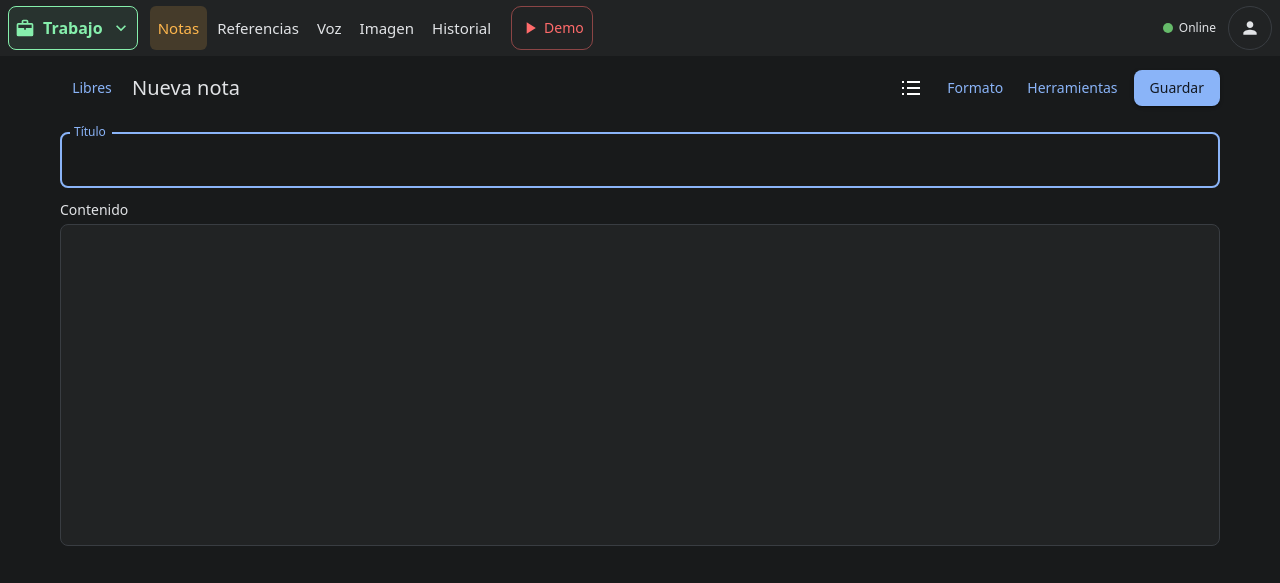
Test: Libres › abre la nota recién creada al guardar desde el editor y conserva la fecha de retorno
Type "Original" into the field labelled "Título" at x=640, y=160, box [60, 132, 1220, 188]
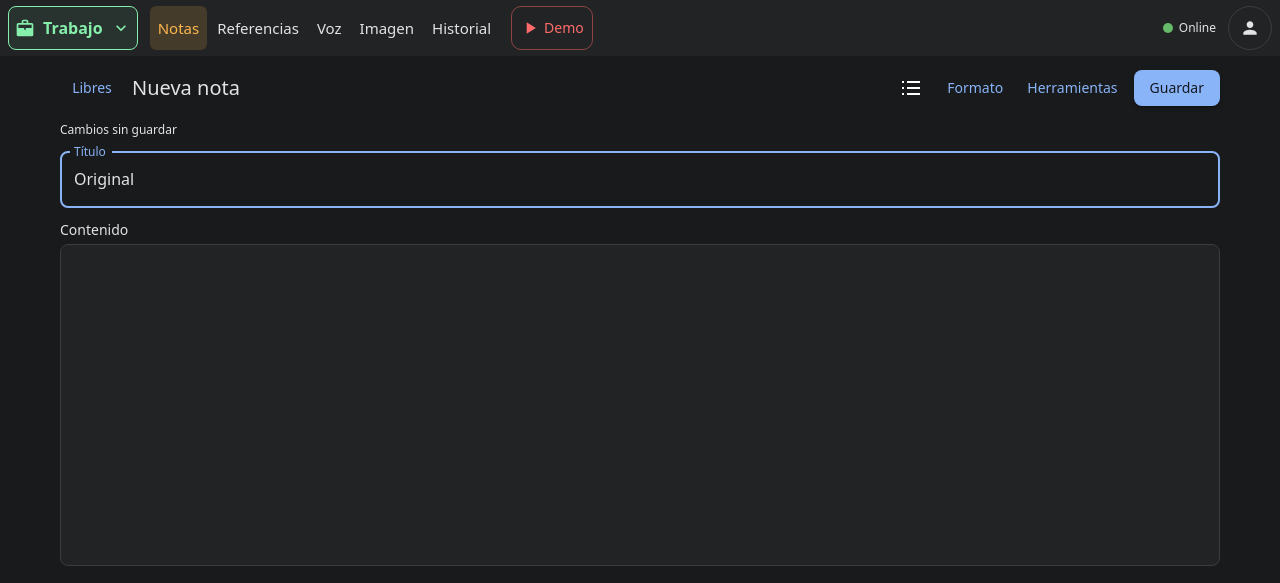
Click the button "Guardar" at x=1177, y=88, box [1134, 70, 1220, 106]
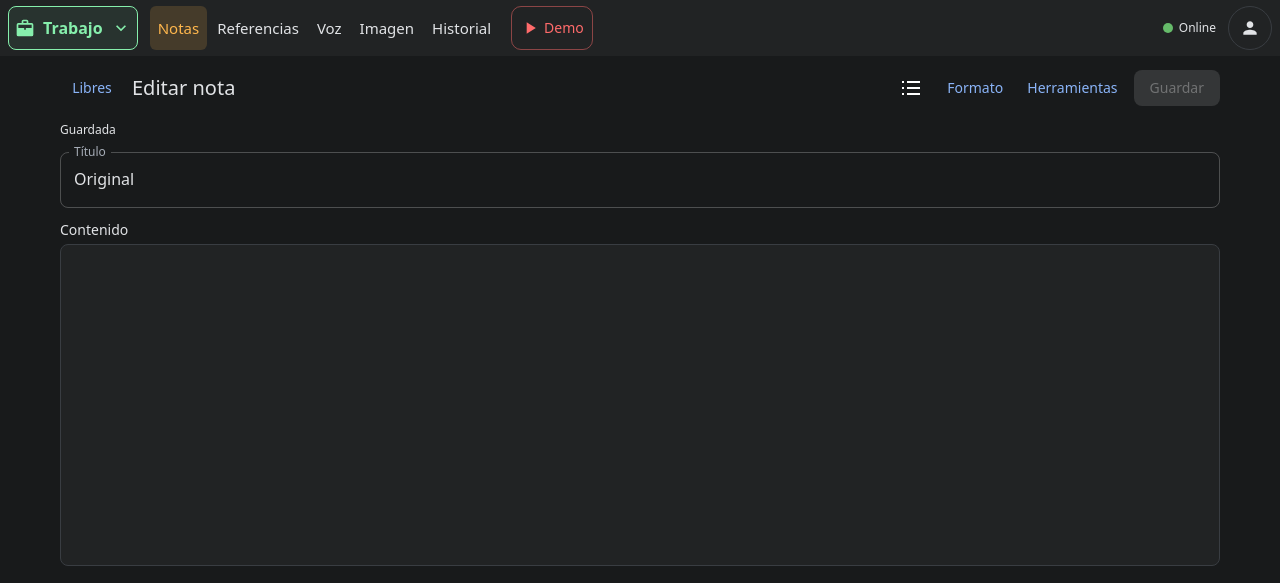
Expected: the heading "Editar nota" is shown, [132, 74, 235, 101]
